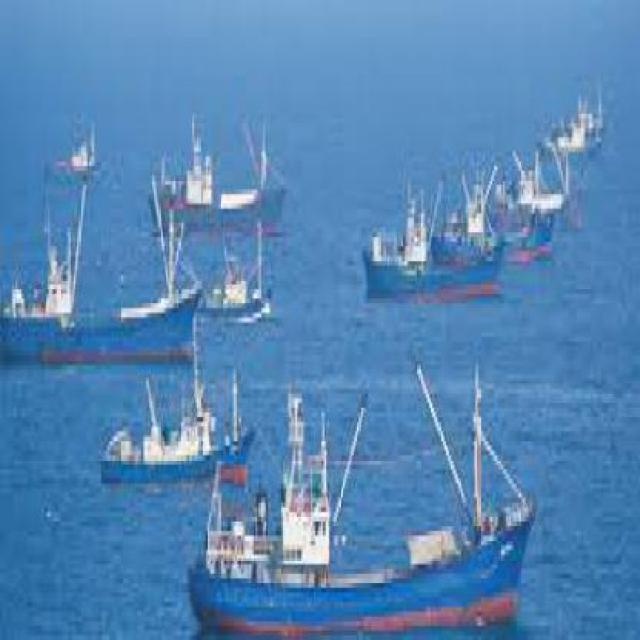fish-b: (195, 375, 546, 636), (1, 181, 207, 395), (138, 115, 296, 267), (96, 366, 262, 500), (356, 181, 516, 309)
